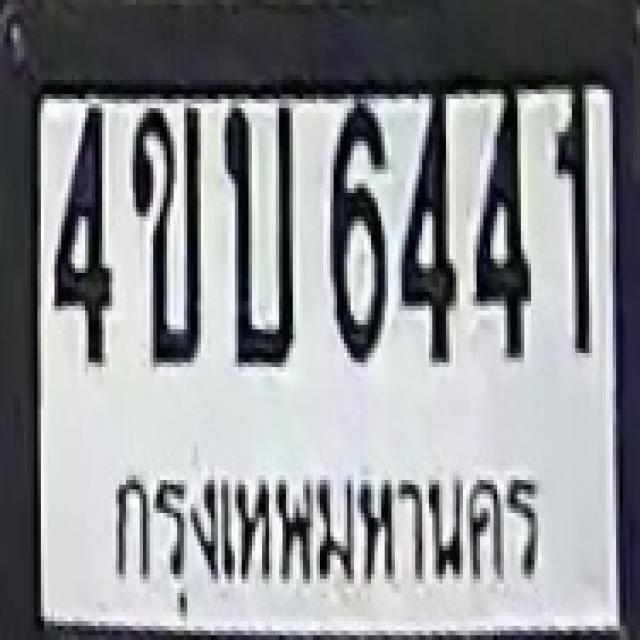-: (221, 104, 293, 362), (130, 104, 198, 362)
4: (473, 85, 528, 358), (51, 104, 109, 362), (398, 92, 453, 360)
6: (326, 101, 384, 360)
BKK: (99, 450, 556, 618)
